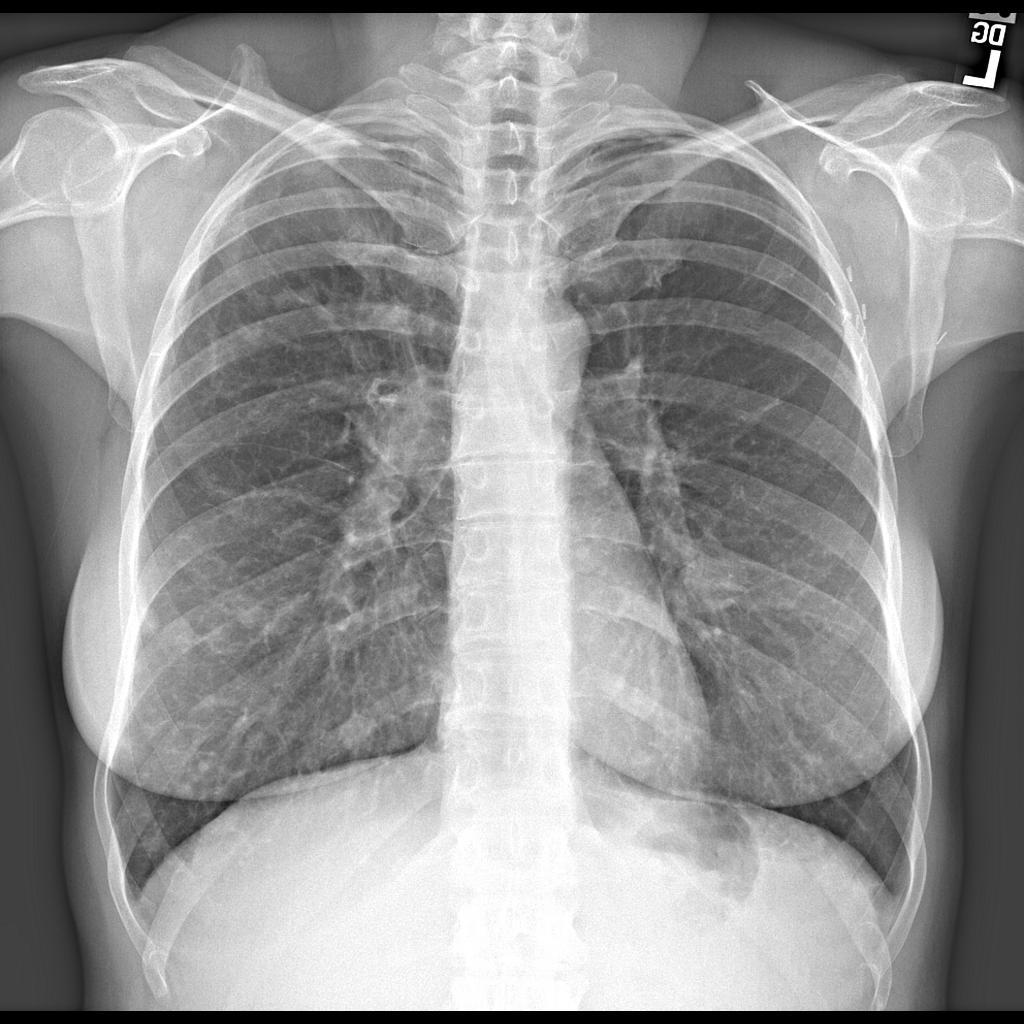Nodule: (675, 553, 756, 628), (331, 705, 391, 762), (160, 613, 200, 662)
